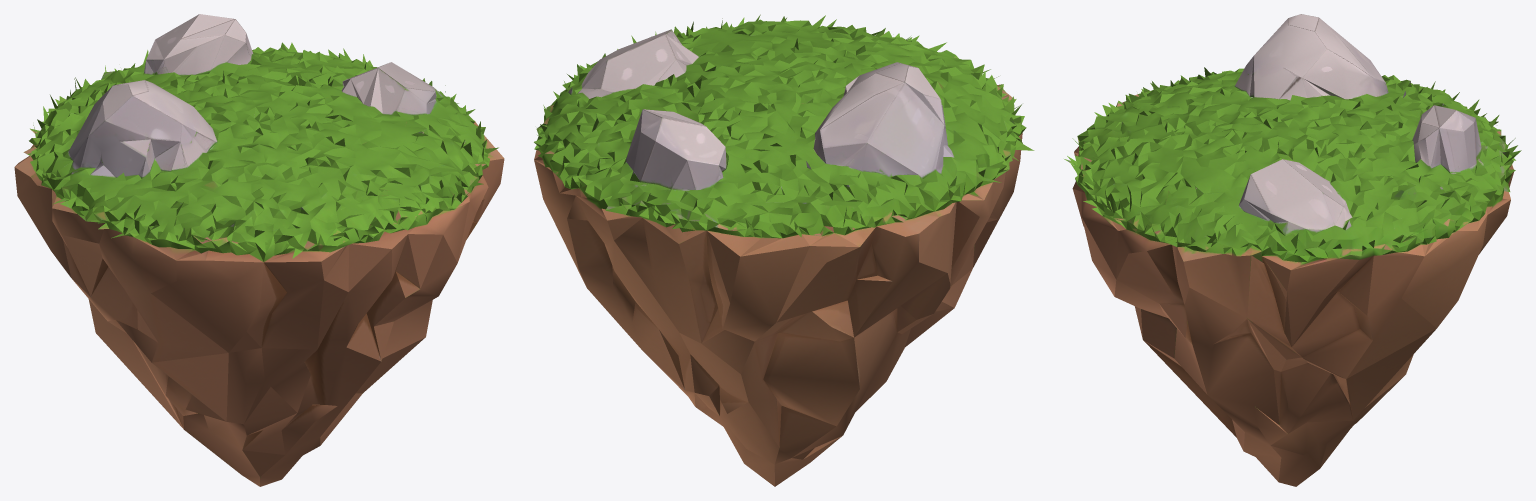
Rendered from sky-island-grass.glb.
3 renders of one model, left to right at view 1: azimuth 30°, elevation 25°; view 2: azimuth 150°, elevation 25°; view 3: azimuth 270°, elevation 25°, orthographic. The views are drawn at different scales.
Visible parts, largest first — view 1: mesh_node; view 2: mesh_node; view 3: mesh_node.
Boxes of the visible parts, x1=… form: mesh_node: x1=14, y1=14, x2=504, y2=486; mesh_node: x1=534, y1=14, x2=1034, y2=486; mesh_node: x1=1064, y1=14, x2=1521, y2=486.
Bounding box in the file's own units: 1.85 × 1.85 × 1.86.
Materials: 1 (1 with a texture image).
